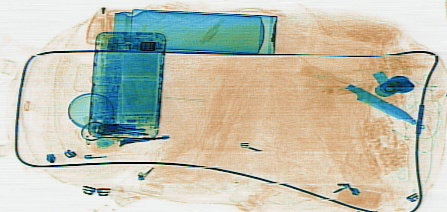knife: (297, 63, 417, 125)
